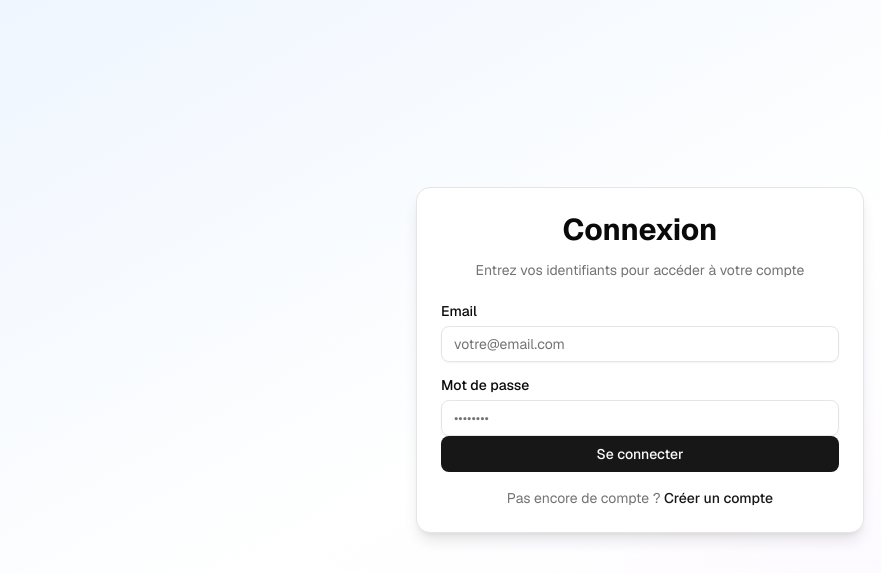
Test: LoginPage › affiche une erreur de validation pour mot de passe trop court
Type "test@test.com" into the field labelled "Email" at (640, 344), box [441,326,839,362]
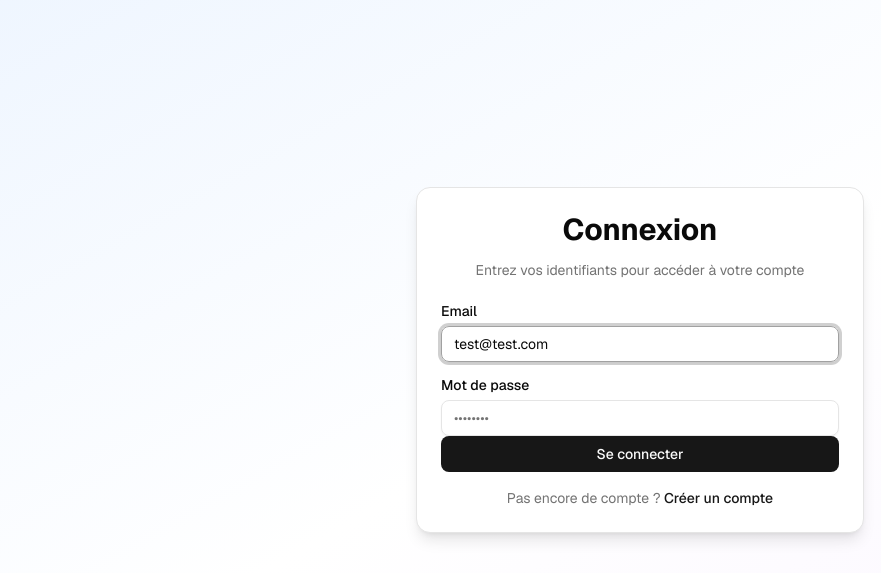
Type "12345" into the password field labelled "Mot de passe" at (640, 418), box [441,400,839,436]
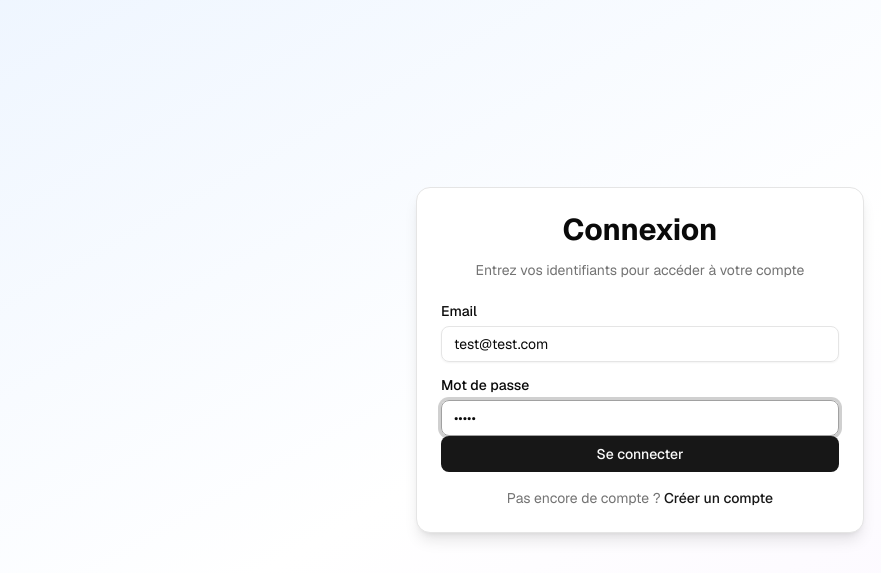
Click the button "Se connecter" at (640, 454), box [441,436,839,472]
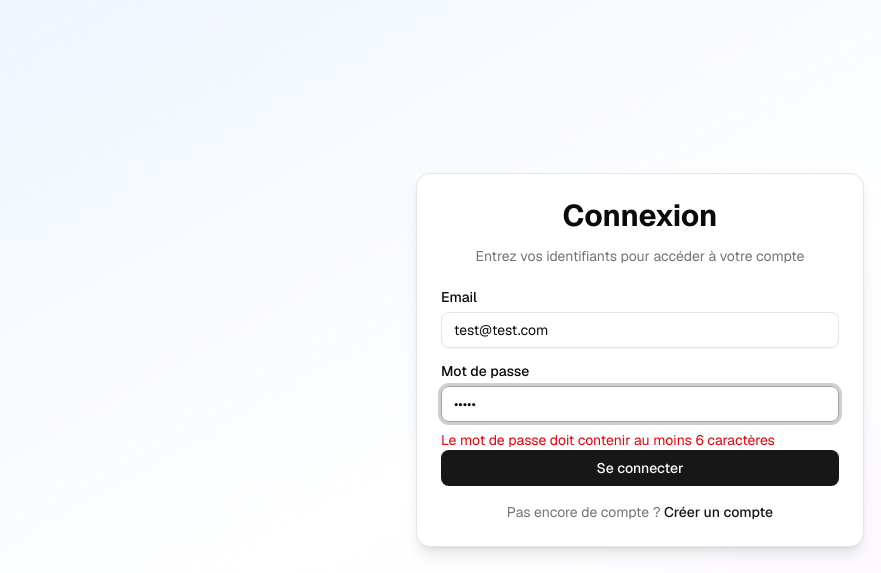
Check: the text "Le mot de passe doit contenir au moins 6 caractères" is shown, box [441,431,775,449]
